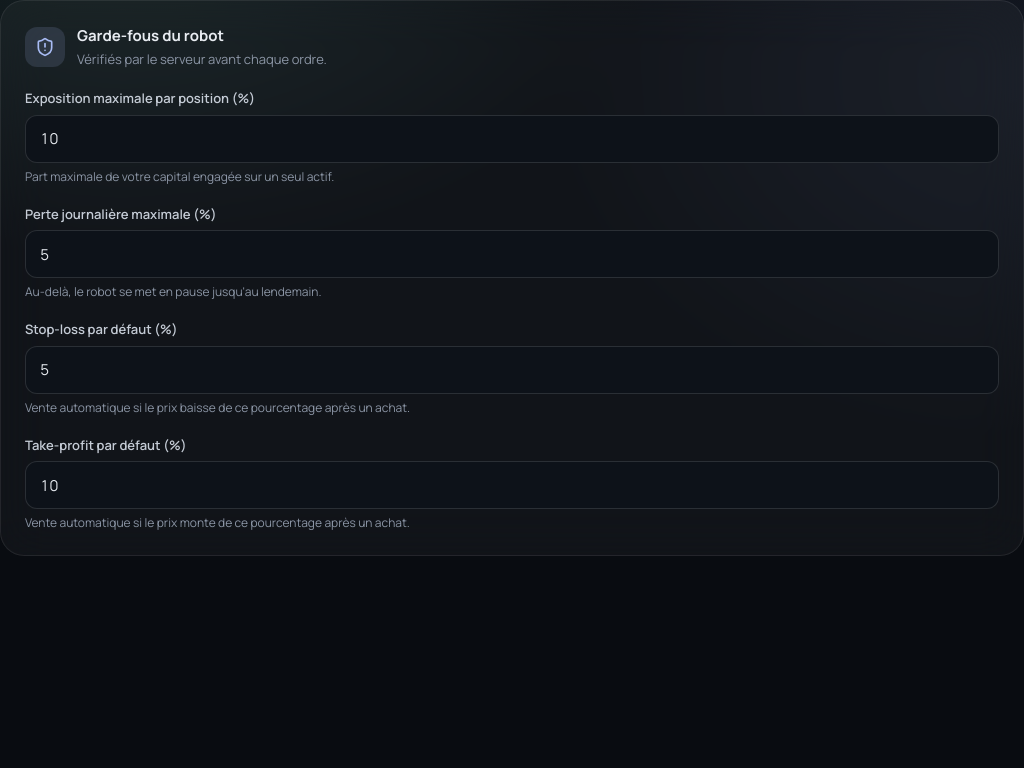
Test: RiskCard › refuse  sans appeler l'API
Expected: the heading "Garde-fous du robot" is shown, [77, 25, 224, 46]
Clear the field labelled "Exposition maximale par position (%)" at (512, 138), box [25, 114, 999, 162]
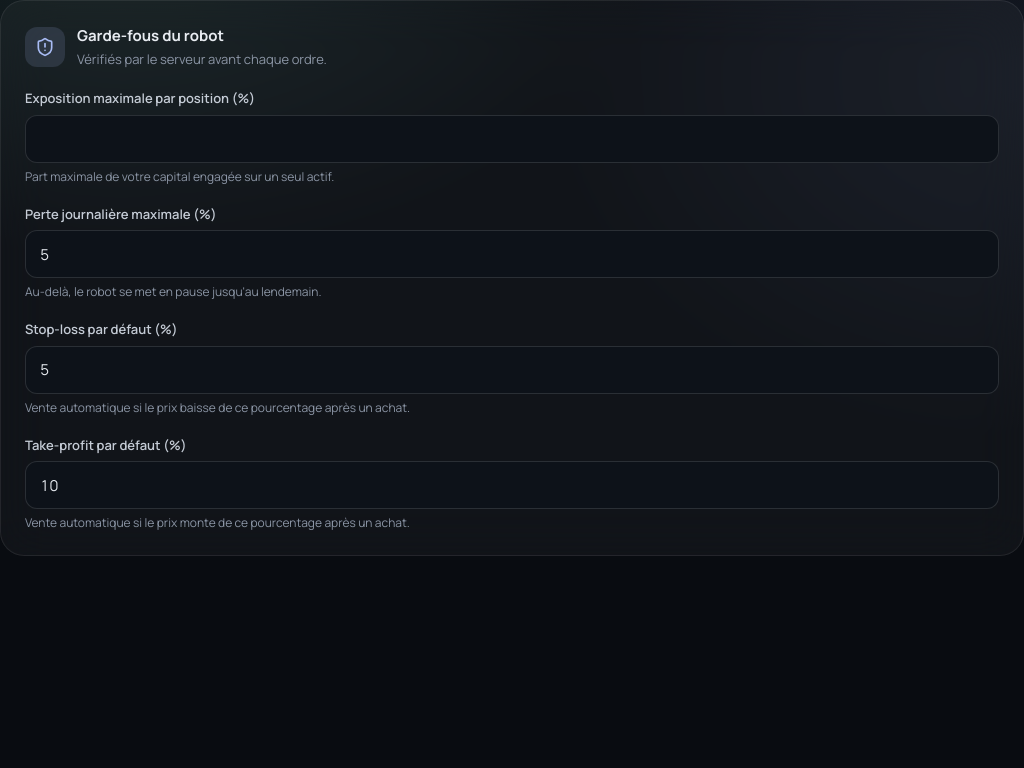
Leave the field labelled "Exposition maximale par position (%)", box [25, 114, 999, 162]
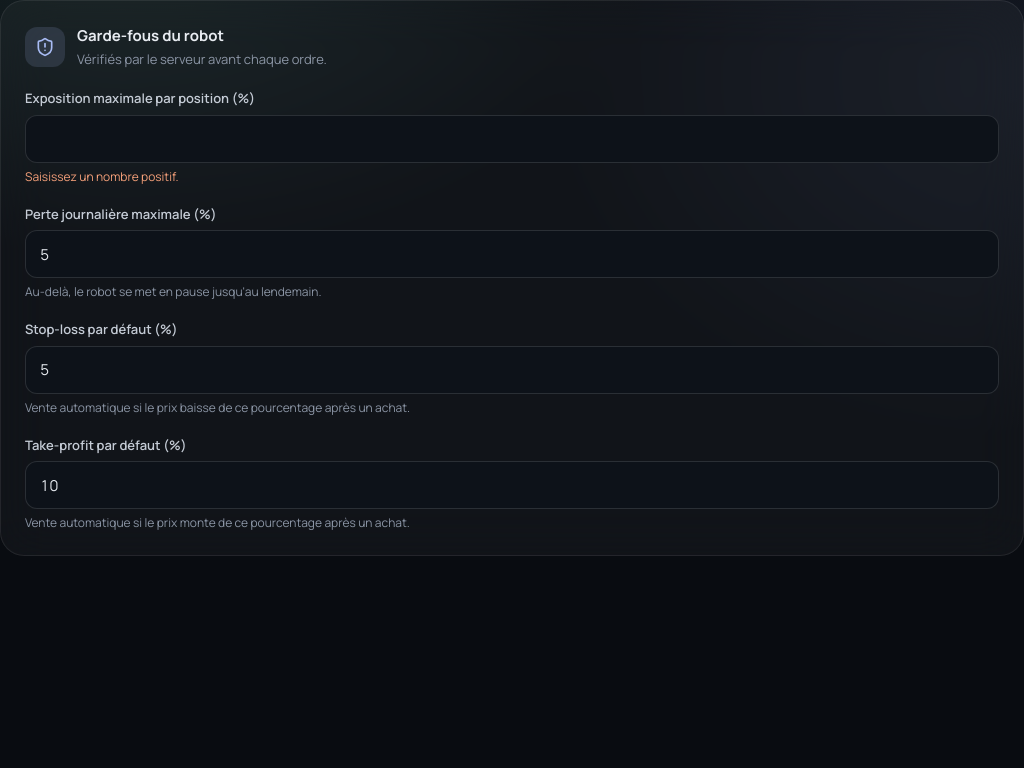
Result: the message shows "Saisissez un nombre positif" at [25, 168, 179, 184]
